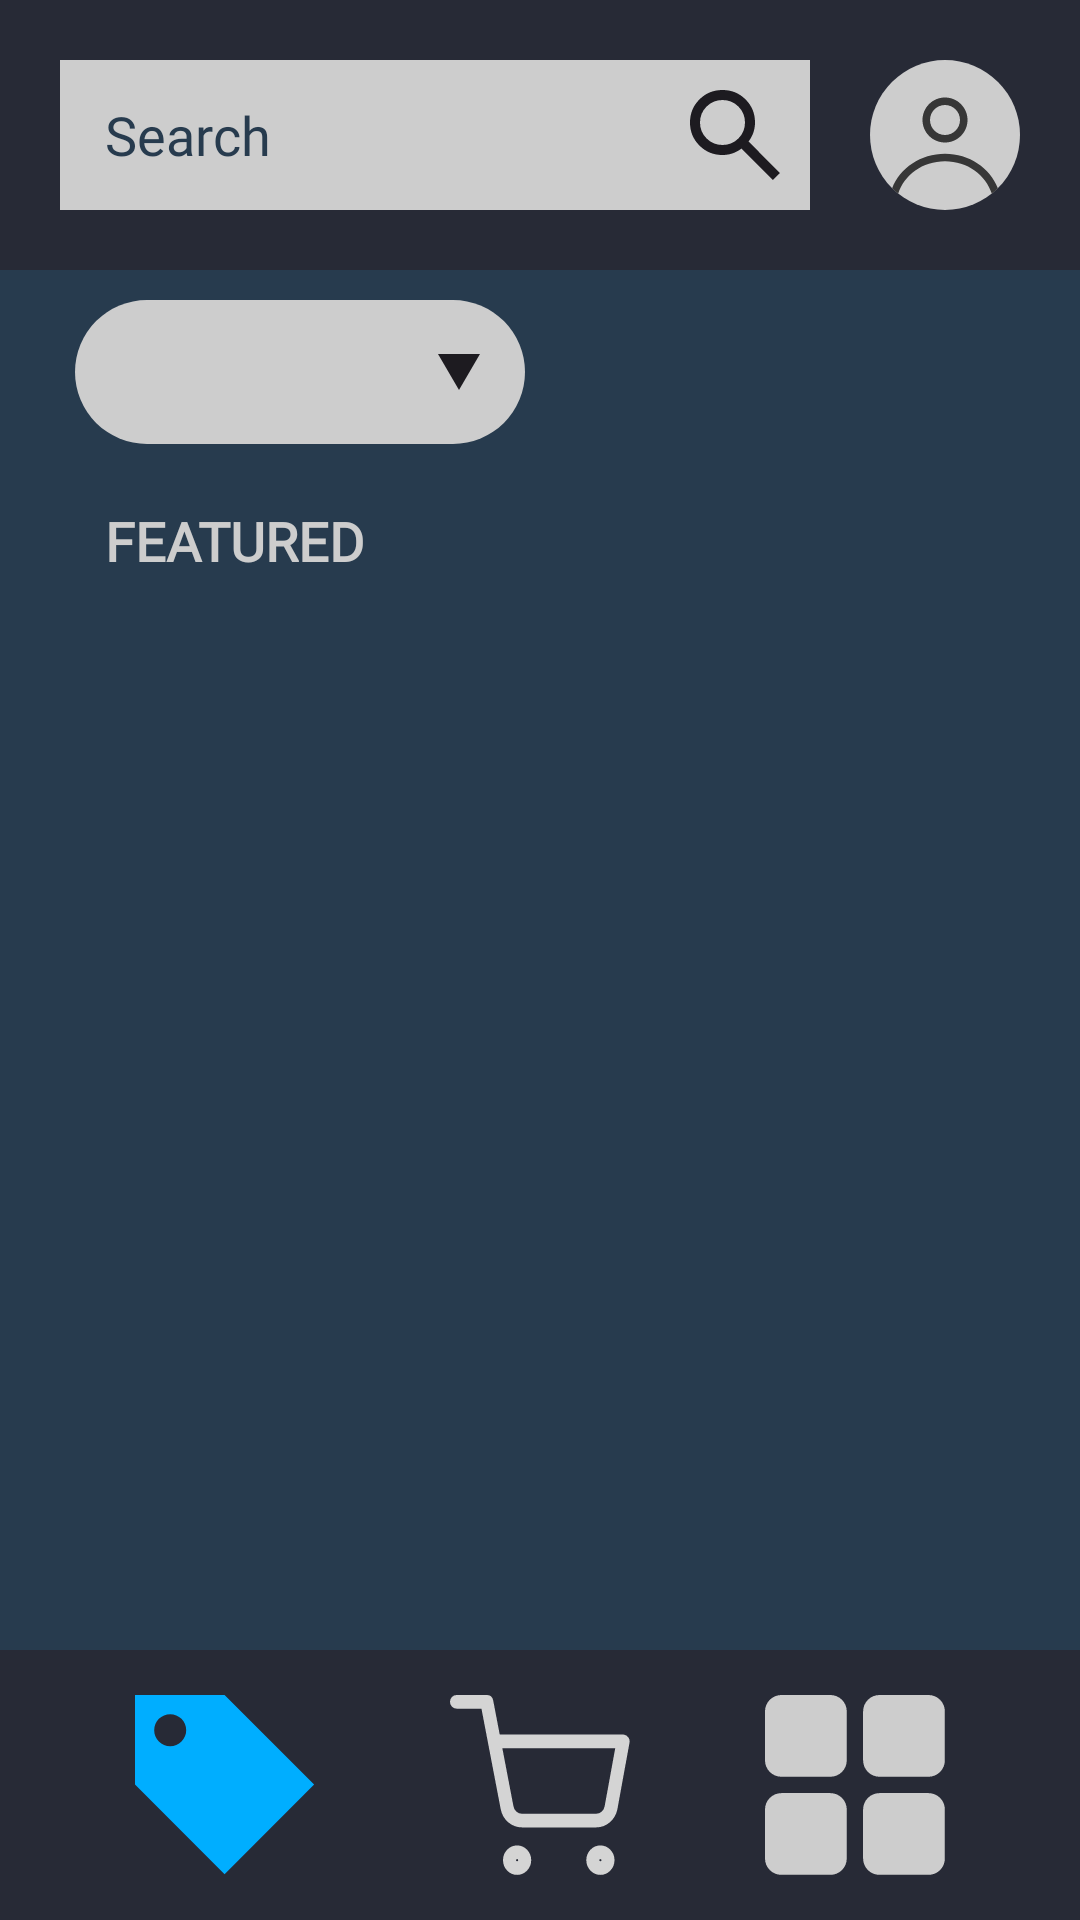

Point at icon controls on the screen. Image size 1080px x 1920px, points as [x,y].
library: [855,1785]
shopping cart: [540,1785]
tag: [224,1784]
